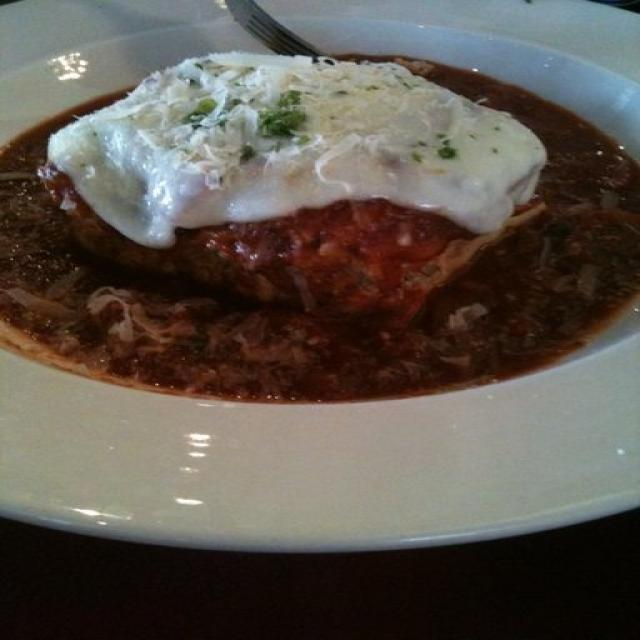Lasagna: (27, 33, 557, 358)
